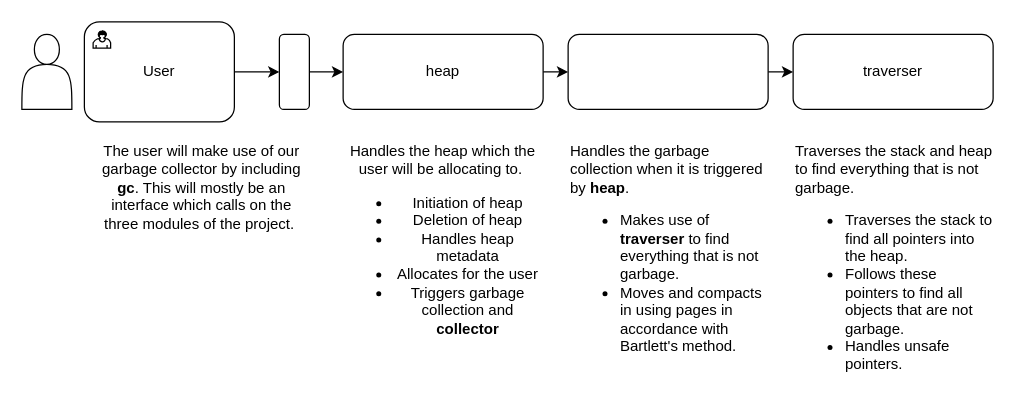
Image size: 1015x398. Some labels were removed from this diagram. The shapes that lost their labels are listed below. From the top down, each one's centre as x and y in pixels, then its label:
the point at 293,71: gc
the point at 667,71: collector
